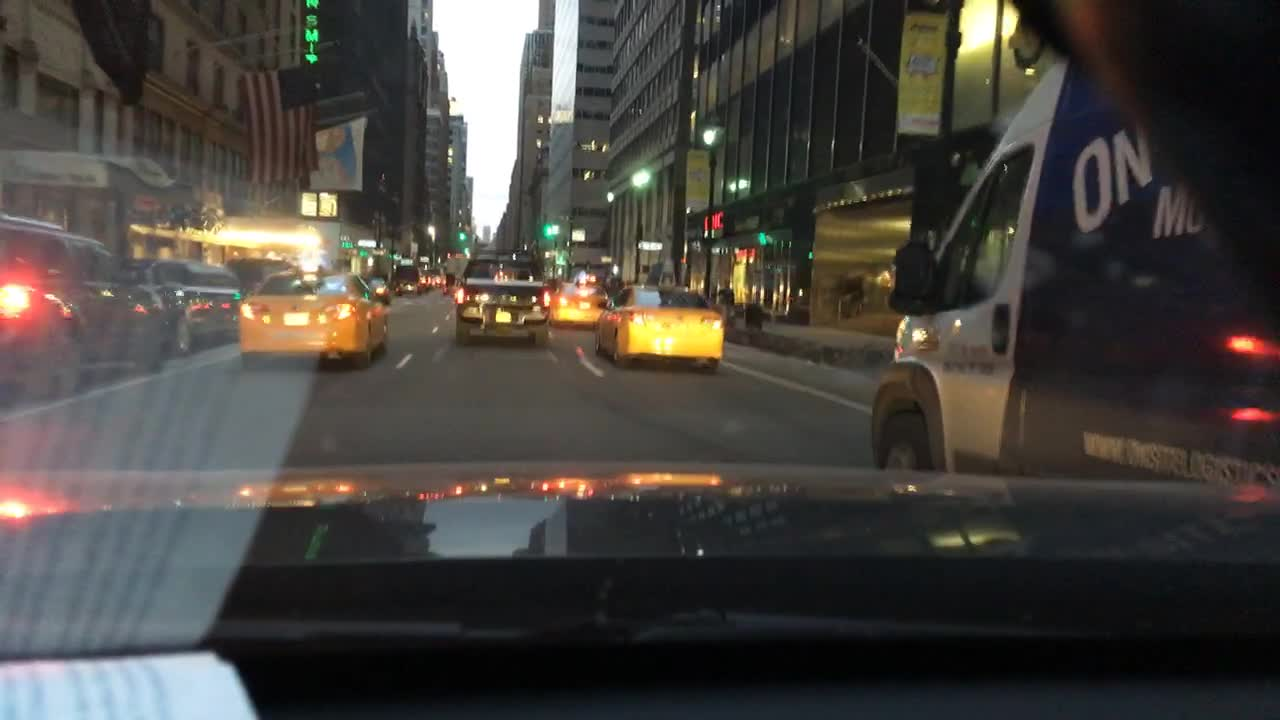car: (870, 43, 1278, 482), (0, 209, 171, 405), (238, 268, 392, 369), (123, 257, 248, 350), (594, 283, 726, 371), (454, 257, 544, 344), (224, 255, 296, 297), (542, 282, 611, 325), (446, 257, 469, 291), (366, 280, 395, 303), (395, 274, 420, 298), (418, 270, 431, 291), (431, 272, 448, 287)
person: (715, 277, 737, 327)
traffic light: (543, 222, 549, 243), (458, 232, 463, 249)
traffic sign: (568, 230, 585, 240)
